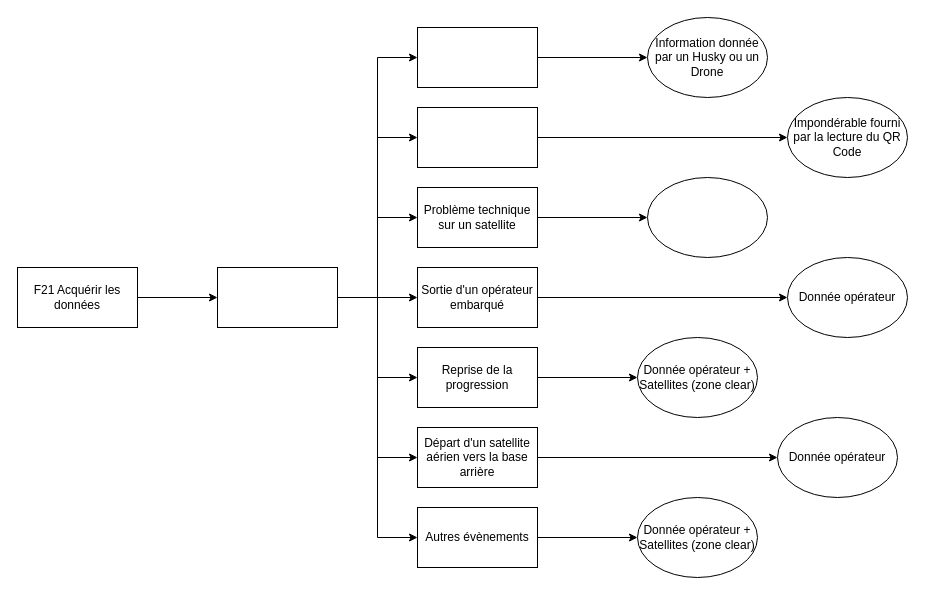
The diagram is 925 pixels wide and 595 high, and some of its shapes have lost their labels. The shapes that lost their labels are listed below. From the top down, each one's box as (x1, y1, x2, y2) in pixels, then its label:
(416, 26, 538, 88): Découverte d'un piège
(416, 106, 538, 168): Réaction à un impondérable
(646, 176, 768, 258): Communiqué par le satellite directement ou obervations humaines
(216, 266, 338, 328): Acquérir l'évènement
